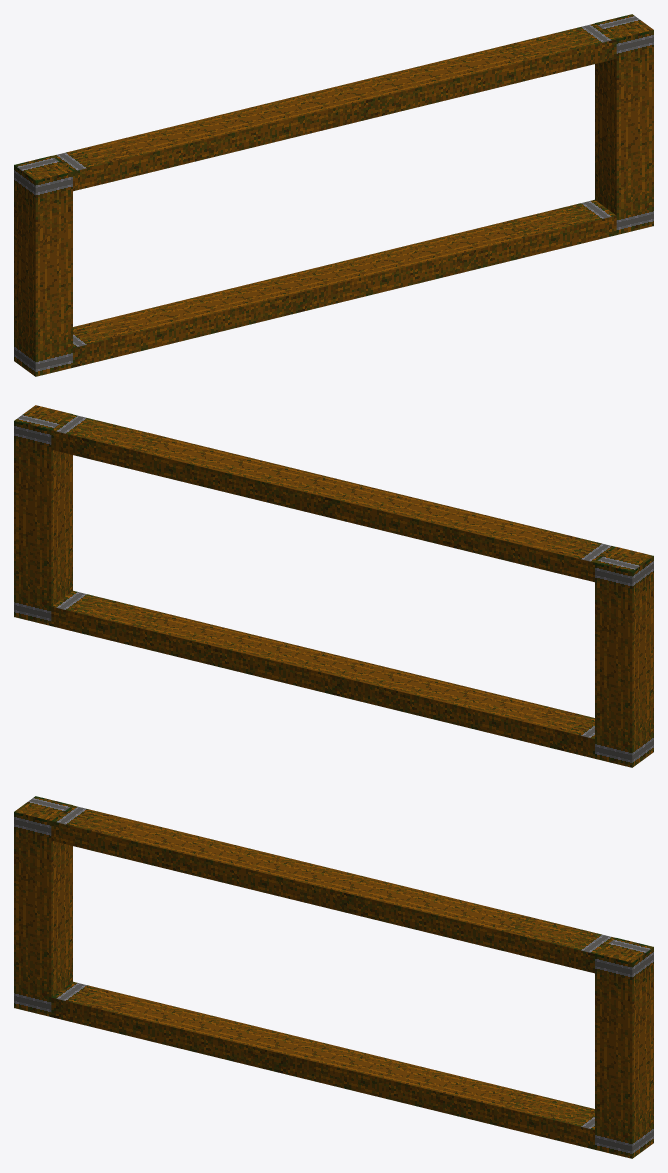
The model's file is WallNewRim.gltf.
3 views of the same model, one above another, from view 1: azimuth 30°, elevation 25°; view 2: azimuth 150°, elevation 25°; view 3: azimuth 330°, elevation 25° (orthographic).
Parts seen in each view (by area): view 1: default; view 2: default; view 3: default.
Part boxes in pixels (box(x1,y1,x2,y2)): default: box(14, 14, 653, 376); default: box(14, 405, 653, 767); default: box(14, 796, 653, 1158).
Size of the model in its own units: 16.5 by 5 by 1.
Materials: 1 (1 with a texture image).
